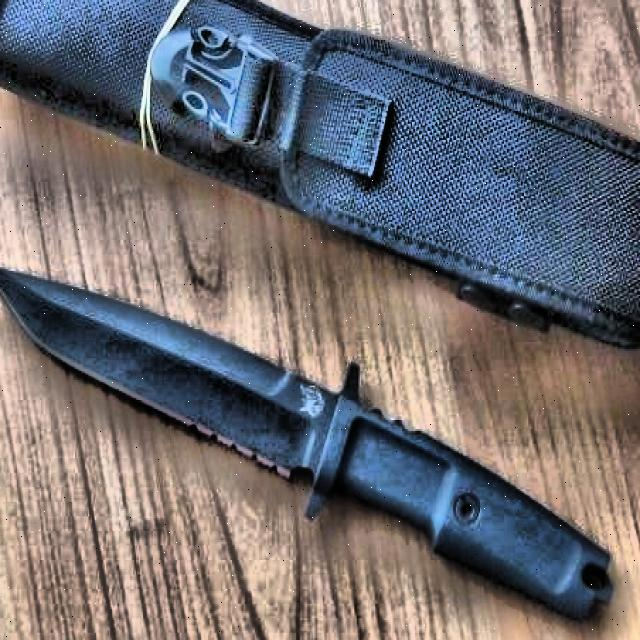knife: (0, 267, 612, 620)
